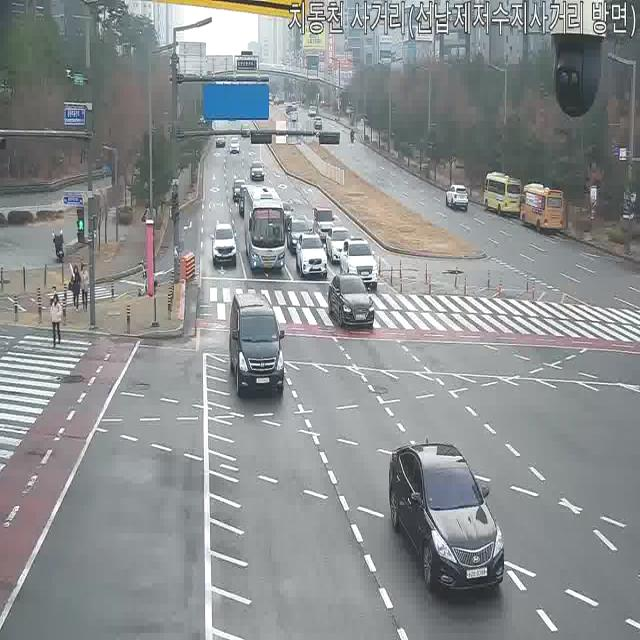Bus: (243, 183, 289, 273), (519, 182, 566, 234), (482, 172, 524, 216)
Car: (384, 438, 506, 602), (230, 292, 288, 402), (328, 274, 376, 332), (339, 238, 378, 290), (296, 233, 328, 279), (210, 223, 238, 269), (326, 224, 352, 264), (311, 206, 337, 246), (286, 219, 312, 256), (271, 199, 294, 234), (238, 188, 260, 221), (444, 183, 467, 210), (238, 187, 257, 218), (250, 160, 266, 182), (232, 178, 246, 203), (228, 137, 240, 155), (215, 134, 226, 148), (289, 109, 299, 123), (312, 117, 322, 130), (307, 105, 317, 117), (274, 92, 284, 104)
Motorcycle: (347, 126, 357, 145)
